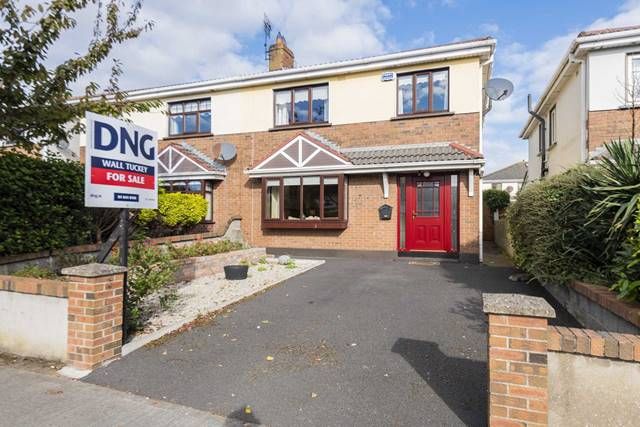property sign: (76, 100, 175, 219)
